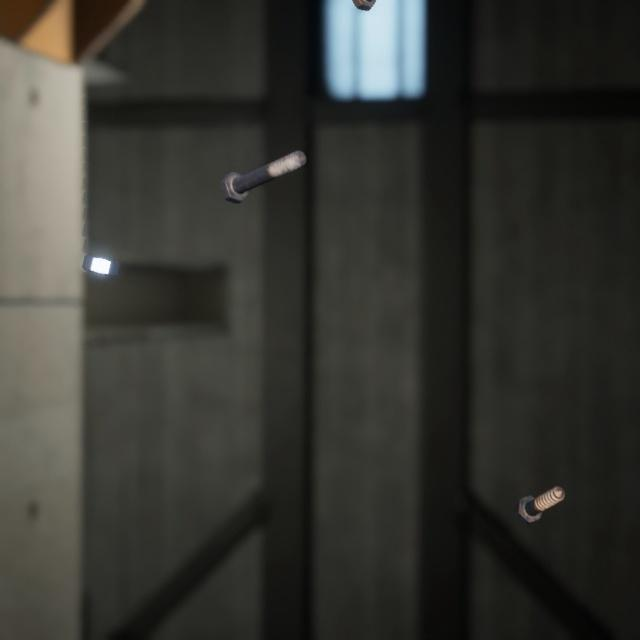bolt: (215, 131, 310, 193), (510, 460, 569, 508)
nut: (77, 233, 123, 264)
